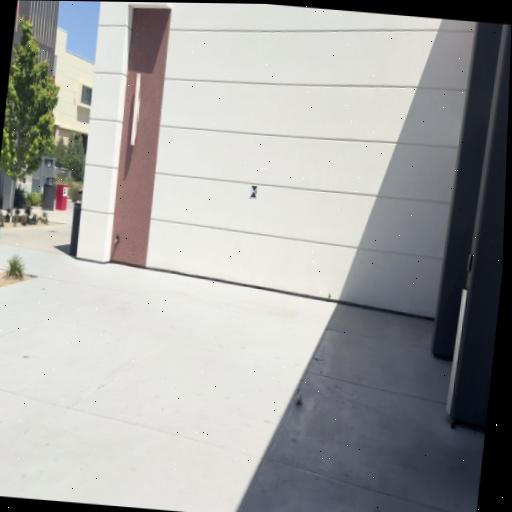target0: (250, 185, 258, 198)
